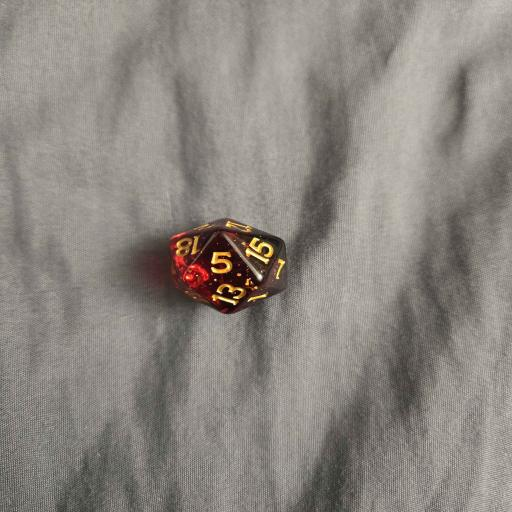twenty sided dice: (168, 217, 290, 314)
